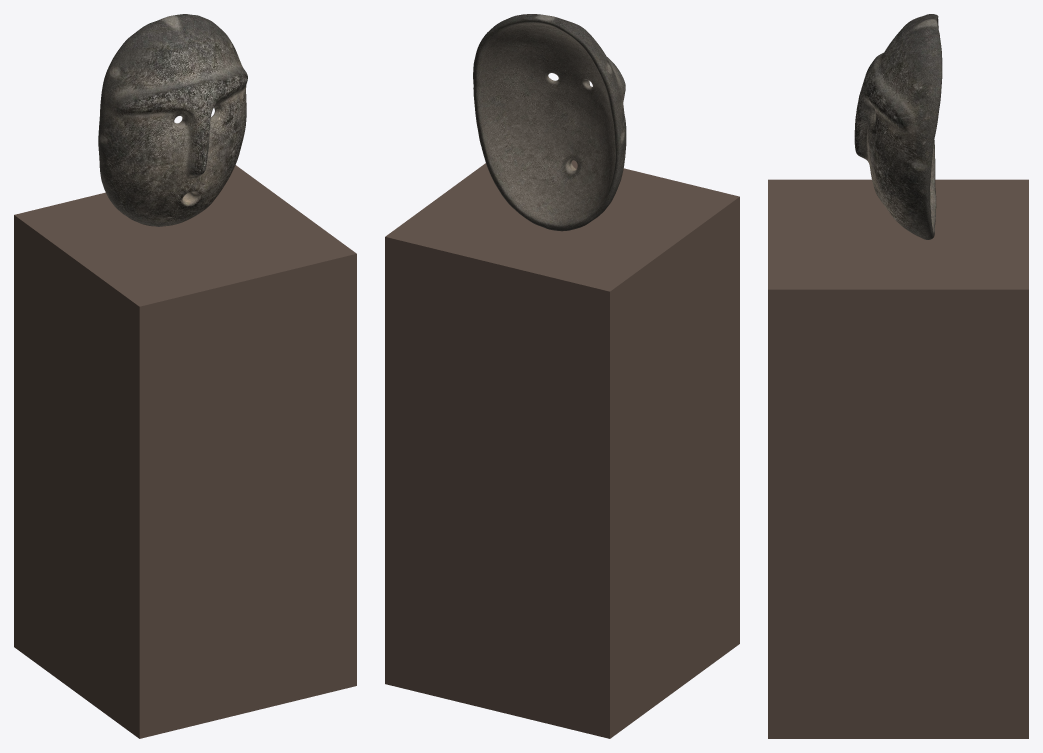
Rendered from GAL_A.glb.
3 renders of one model, left to right at view 1: azimuth 30°, elevation 25°; view 2: azimuth 150°, elevation 25°; view 3: azimuth 270°, elevation 25°, orthographic. The views are drawn at different scales.
Visible parts, largest first — view 1: base, V11; view 2: base, V11; view 3: base, V11.
Boxes of the visible parts, <box> form: base: <box>14,165,356,738</box>; V11: <box>98,14,247,226</box>; base: <box>385,160,739,738</box>; V11: <box>473,14,626,231</box>; base: <box>768,179,1028,738</box>; V11: <box>854,14,942,239</box>.
Bounding box in the file's own units: 0.5 × 1.4 × 0.5.
2 materials, 1 textured.
